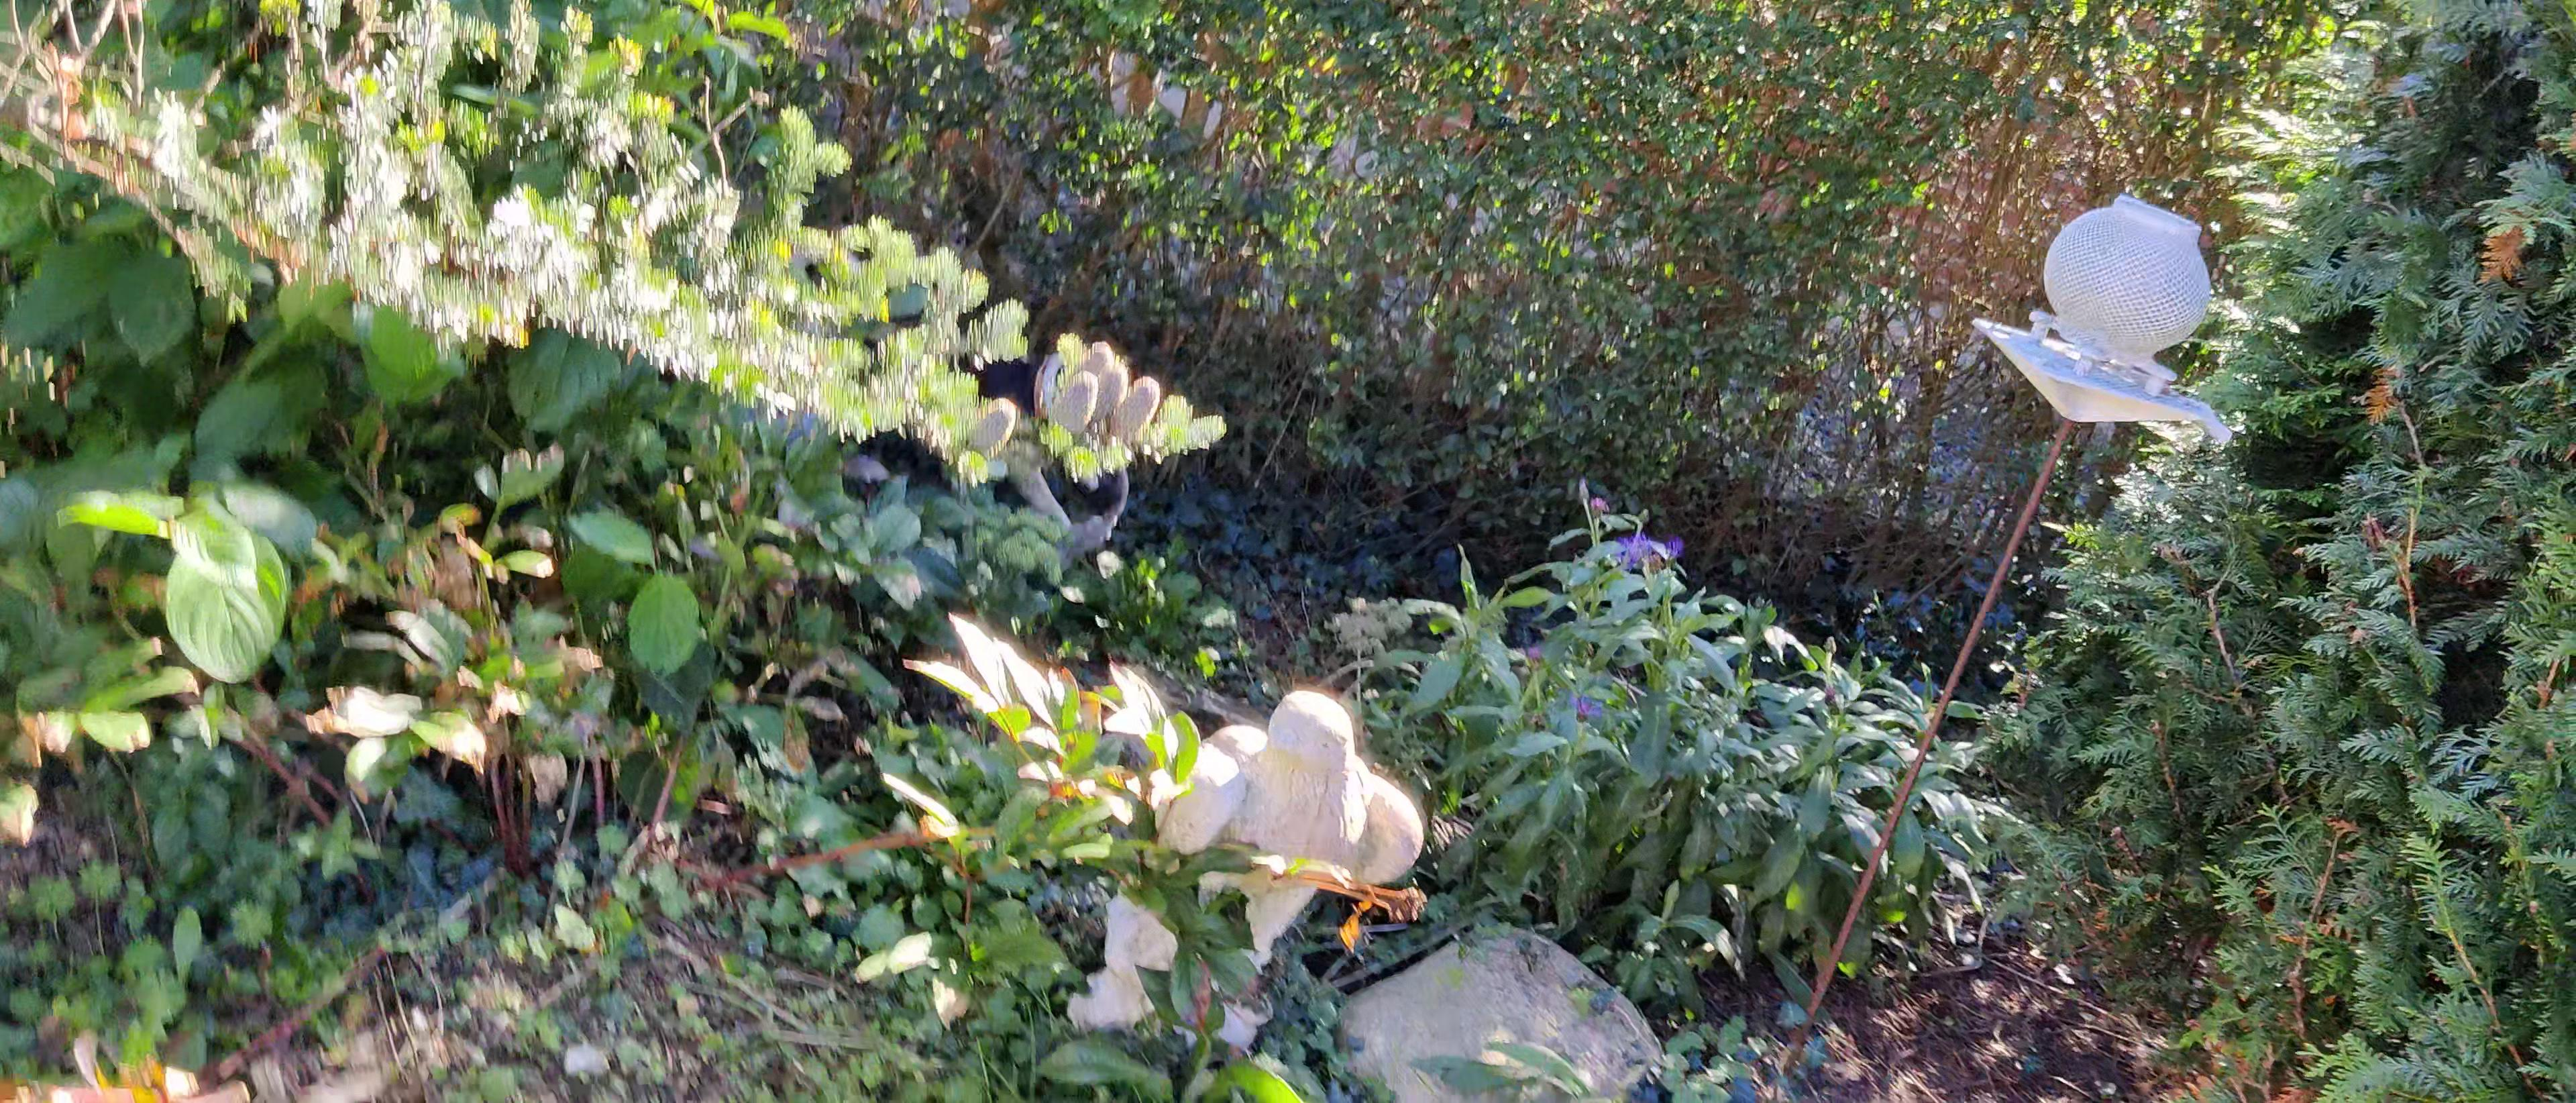Dog: (890, 321, 1086, 533)
